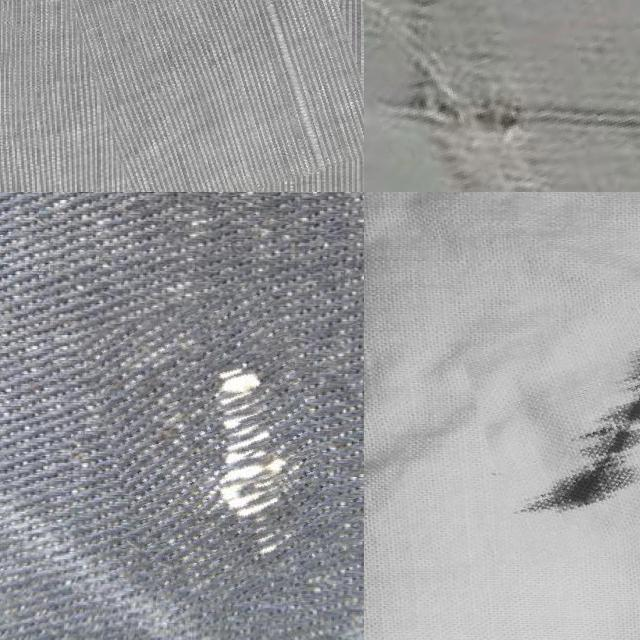Hole: (472, 288, 640, 550)
Thread_other: (97, 292, 334, 612), (364, 0, 640, 192)
